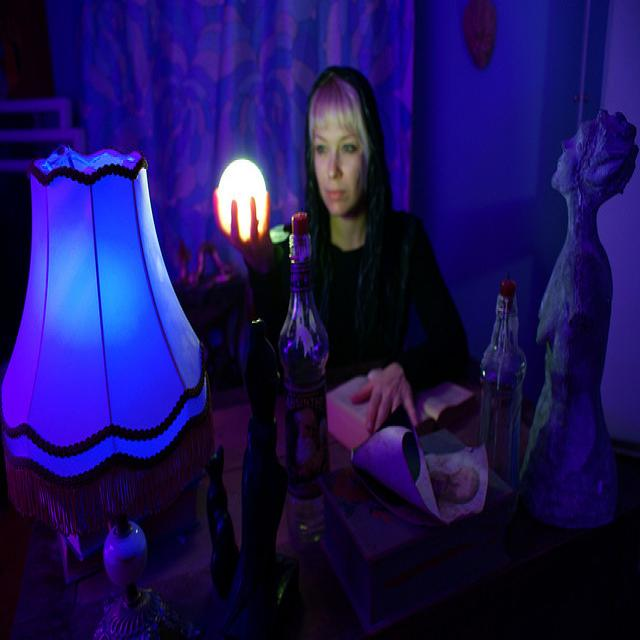Bottle: (277, 204, 350, 532), (236, 300, 289, 623), (475, 259, 547, 463)
People: (245, 43, 495, 513)
